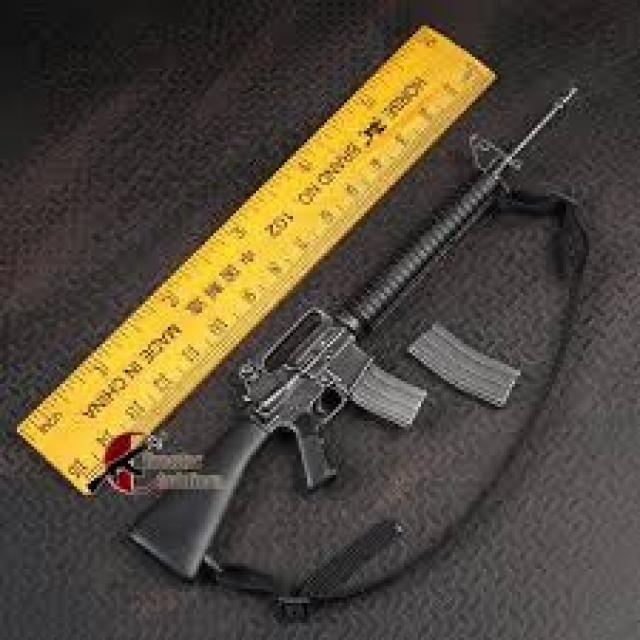m16: (156, 49, 584, 602)
